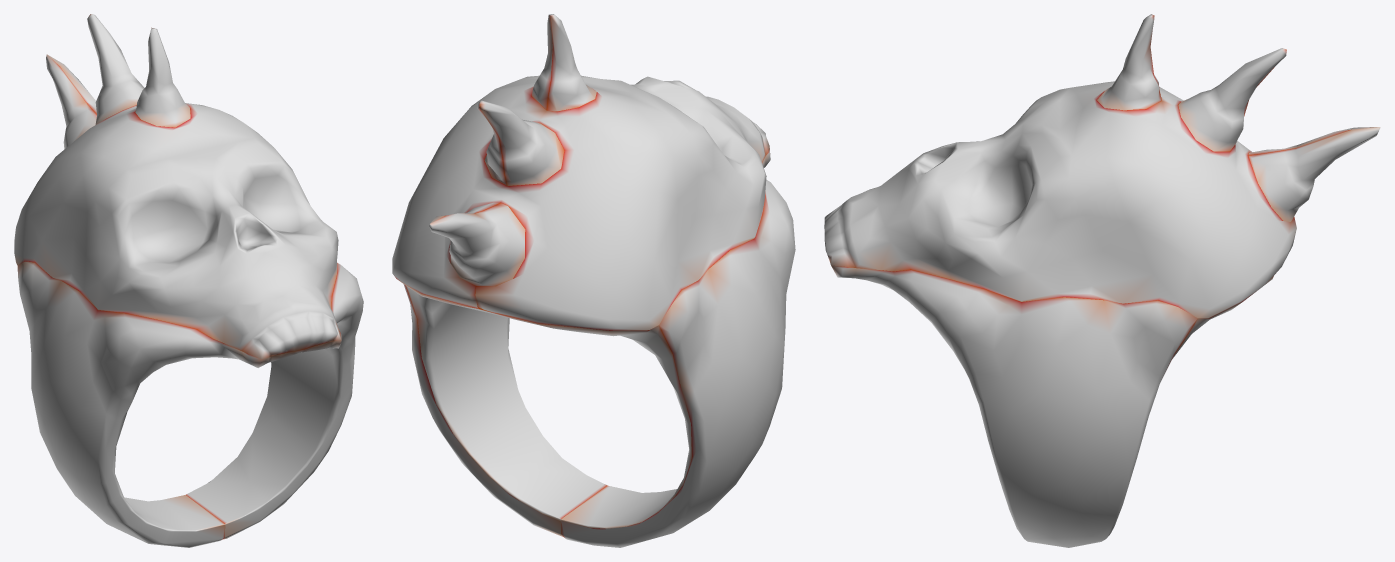
The model's file is SM_Ring_43.fbx.
3 renders of one model, left to right at view 1: azimuth 30°, elevation 25°; view 2: azimuth 150°, elevation 25°; view 3: azimuth 270°, elevation 25°, orthographic. The views are drawn at different scales.
Visible parts, largest first — view 1: Jewelry_SignetRing1_SeamsColor_INSTALOD_INSTALOD; view 2: Jewelry_SignetRing1_SeamsColor_INSTALOD_INSTALOD; view 3: Jewelry_SignetRing1_SeamsColor_INSTALOD_INSTALOD.
Part boxes in pixels (<box>): Jewelry_SignetRing1_SeamsColor_INSTALOD_INSTALOD: <box>14,14,363,547</box>; Jewelry_SignetRing1_SeamsColor_INSTALOD_INSTALOD: <box>392,14,795,547</box>; Jewelry_SignetRing1_SeamsColor_INSTALOD_INSTALOD: <box>824,14,1380,547</box>.
Size of the model in its own units: 24.37 by 38.96 by 38.01.
